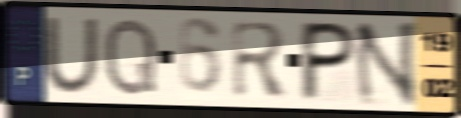6: (177, 13, 225, 103)
N: (351, 19, 421, 108)
P: (297, 18, 360, 104)
Q: (102, 14, 160, 98)
R: (229, 18, 291, 101)
U: (42, 15, 103, 96)
